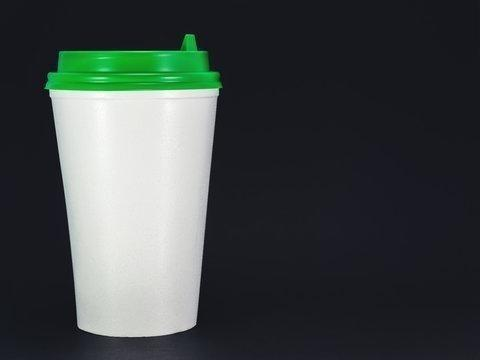cup-disposable: (43, 38, 224, 342)
